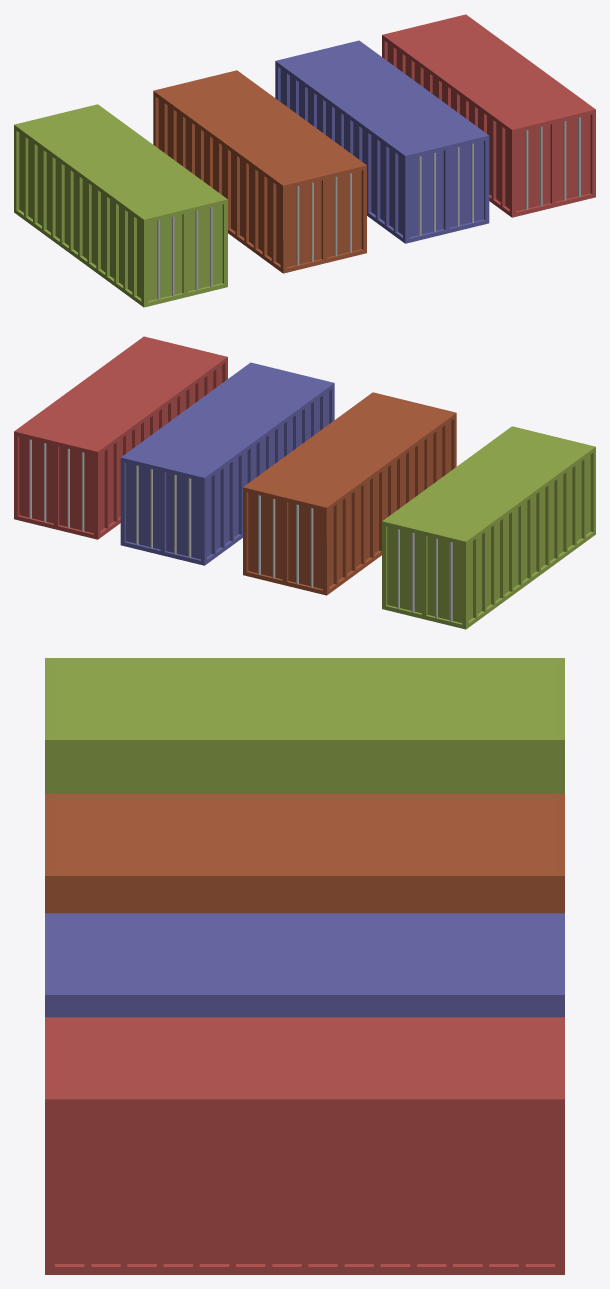
Rendered from Conteiners.fbx.
The picture shows the model from 3 angles, top to bottom: view 1: azimuth 30°, elevation 25°; view 2: azimuth 150°, elevation 25°; view 3: azimuth 270°, elevation 25°; orthographic projection. The views are drawn at different scales.
Visible parts, largest first — view 1: Cube.012, Cube.011, Cube.009, Cube.010, Cylinder.008, Cylinder.009, Cylinder.010, Cylinder.007; view 2: Cube.012, Cube.011, Cube.009, Cube.010, Cylinder.010, Cylinder.008, Cylinder.009, Cylinder.007; view 3: Cube.010, Cube.012, Cube.011, Cube.009.
Part boxes in pixels (x1,y1,x2,y2): Cube.012: (14, 104, 227, 307); Cube.011: (153, 70, 366, 273); Cube.009: (275, 40, 489, 243); Cube.010: (382, 14, 595, 217); Cylinder.008: (525, 117, 580, 209); Cylinder.009: (296, 173, 351, 265); Cylinder.010: (157, 207, 212, 299); Cylinder.007: (418, 143, 473, 235); Cube.012: (382, 426, 595, 629); Cube.011: (243, 392, 456, 595); Cube.009: (120, 362, 334, 565); Cube.010: (14, 336, 227, 539); Cylinder.010: (397, 529, 452, 621); Cylinder.008: (29, 439, 84, 531); Cylinder.009: (258, 495, 313, 587); Cylinder.007: (136, 465, 191, 557); Cube.010: (45, 1017, 564, 1274); Cube.012: (45, 658, 564, 793); Cube.011: (45, 794, 564, 913); Cube.009: (45, 913, 564, 1017).
Size of the model in its own units: 6077 by 1128 by 3026.
